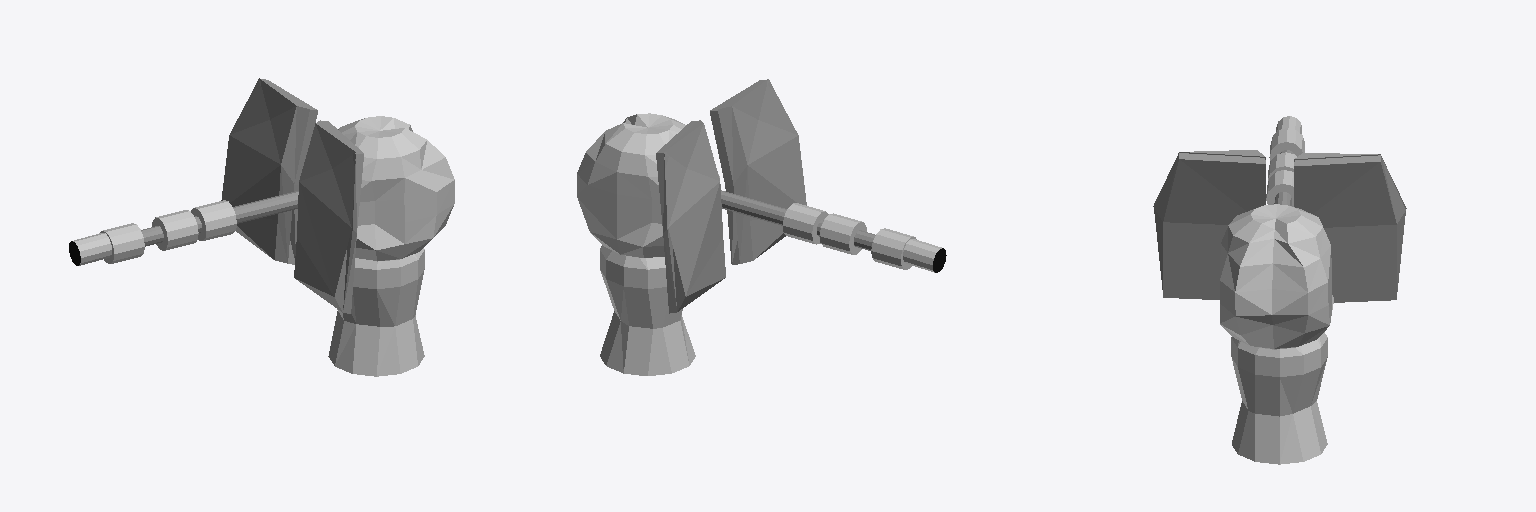
3 renders of one model, left to right at view 1: azimuth 30°, elevation 25°; view 2: azimuth 150°, elevation 25°; view 3: azimuth 270°, elevation 25°, orthographic.
Parts seen in each view (by area): view 1: group[number redacted]; view 2: group[number redacted]; view 3: group[number redacted].
Part boxes in pixels (x1,y1,x2,y2): group[number redacted]: (69,78,454,376); group[number redacted]: (577,79,946,375); group[number redacted]: (1153,116,1406,464).
Bounding box in the file's own units: 0.4702 × 0.3289 × 0.2912.